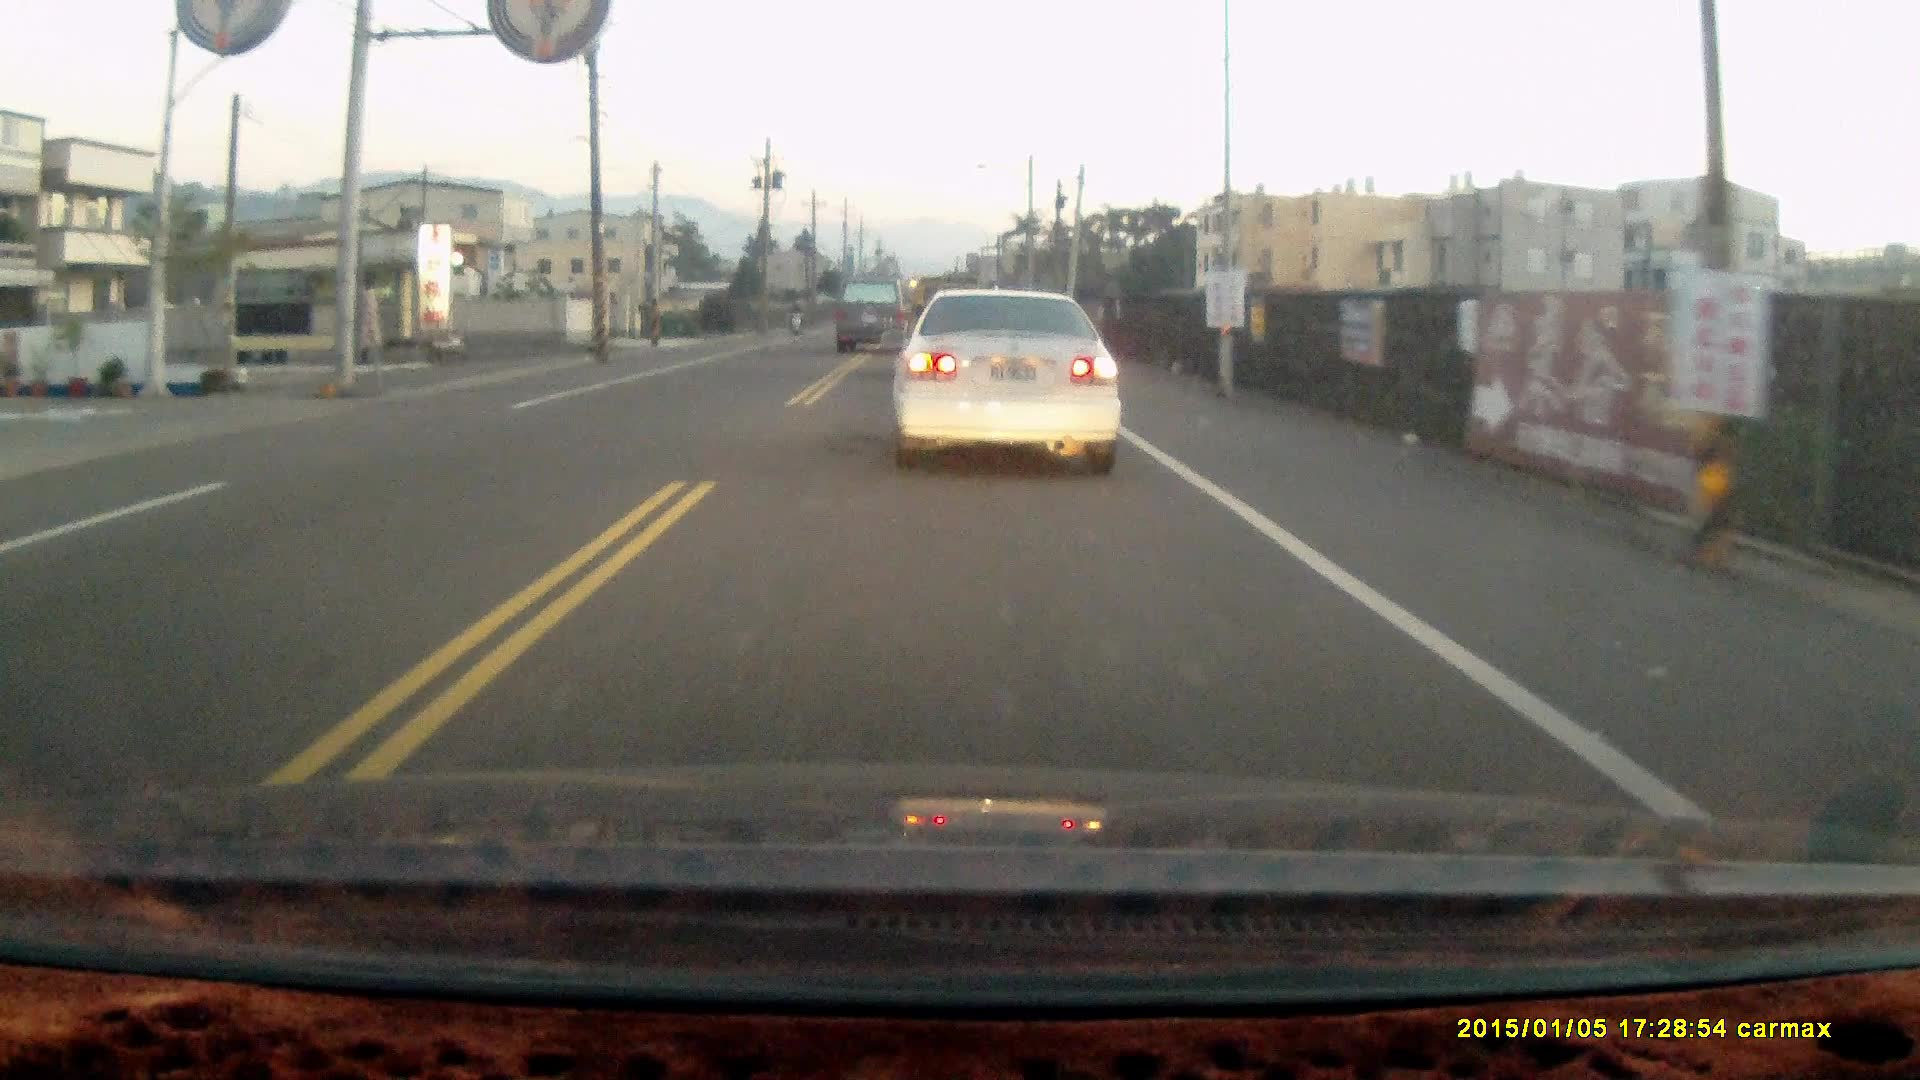rider: (783, 300, 803, 339)
vehicle: (888, 292, 1131, 483), (834, 278, 912, 360)
